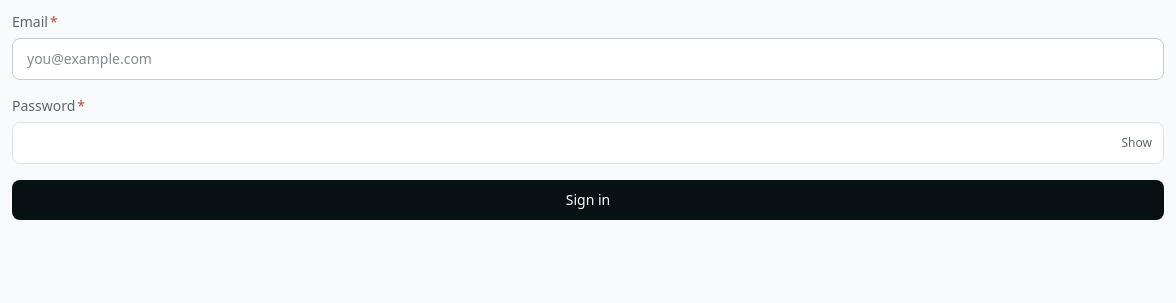
LoginForm › surfaces a transport failure without losing what was typed
The width and height of the screenshot is (1176, 303).
In the field labelled "Email*": {"x": 588, "y": 59} [12, 38, 1164, 80], type "ada@example.com"
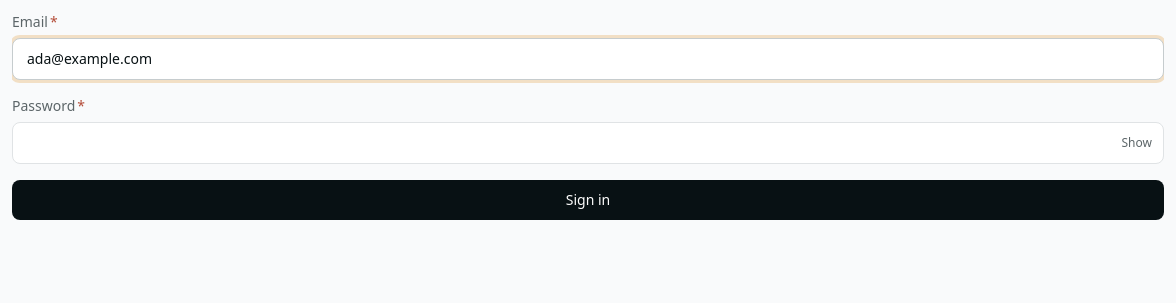
In the password field labelled "Password*": {"x": 588, "y": 143} [12, 122, 1164, 164], type "Str0ng!pass"
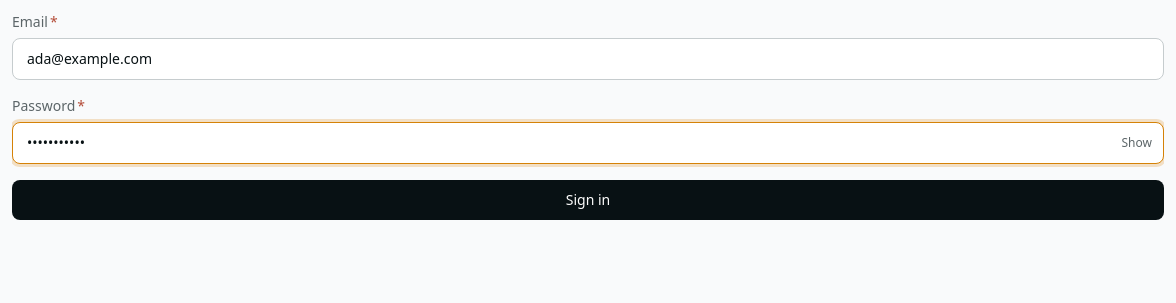
Click the button "Sign in": {"x": 588, "y": 200} [12, 180, 1164, 220]
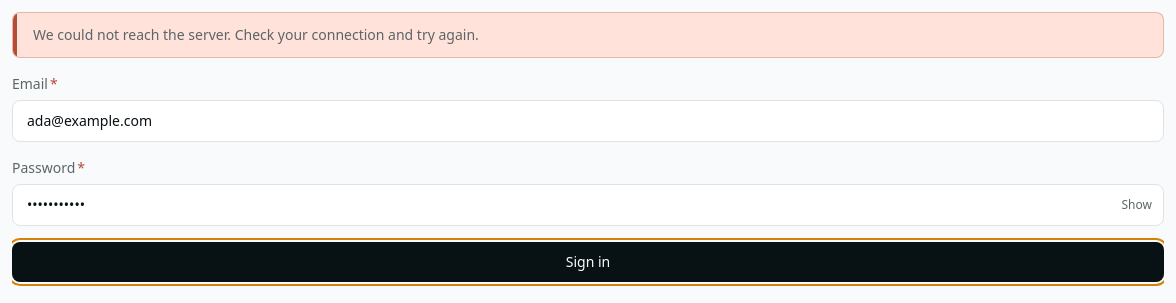
expect the message shows "could not reach the server": met, box [33, 25, 479, 44]
